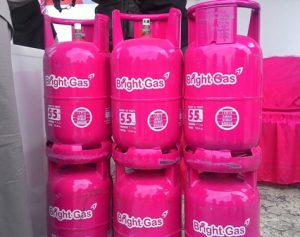bright_gas: (182, 1, 265, 158), (112, 8, 180, 158), (44, 14, 112, 154), (185, 157, 261, 237), (45, 155, 115, 237), (112, 158, 183, 237)
